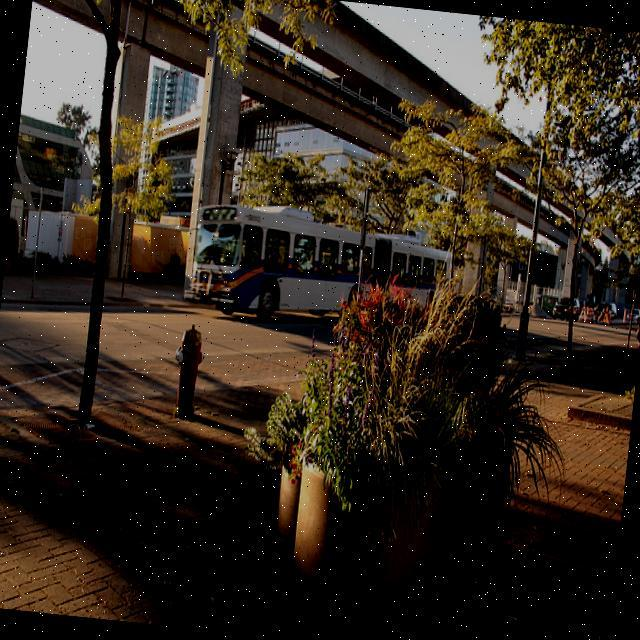fire_hydrant: (169, 321, 207, 416)
